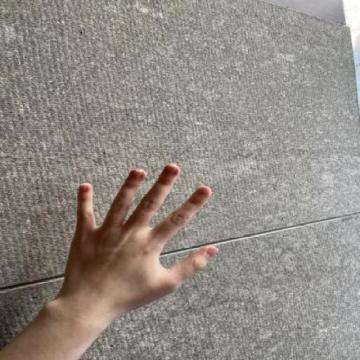hand: (59, 162, 221, 320)
